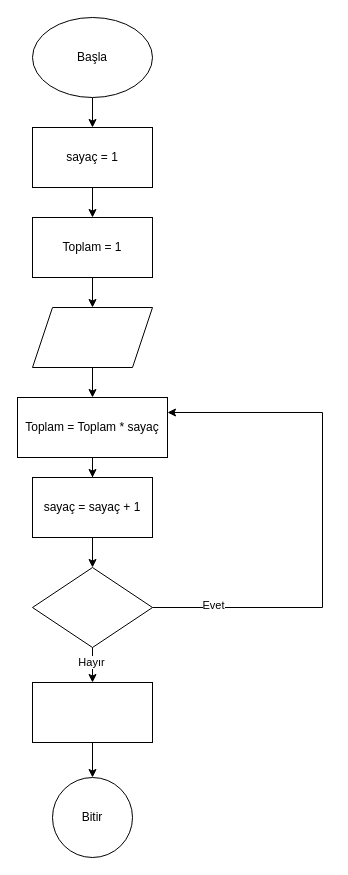
This 348x875 diagram has some shape labels left out. The box of each missing label's shape, as (x1, y1, x2, y2) in pixels:
sayaç < sayı: (32, 566, 152, 648)
sayı gir: (32, 306, 152, 368)
Toplam cıkışı: (32, 682, 152, 742)
